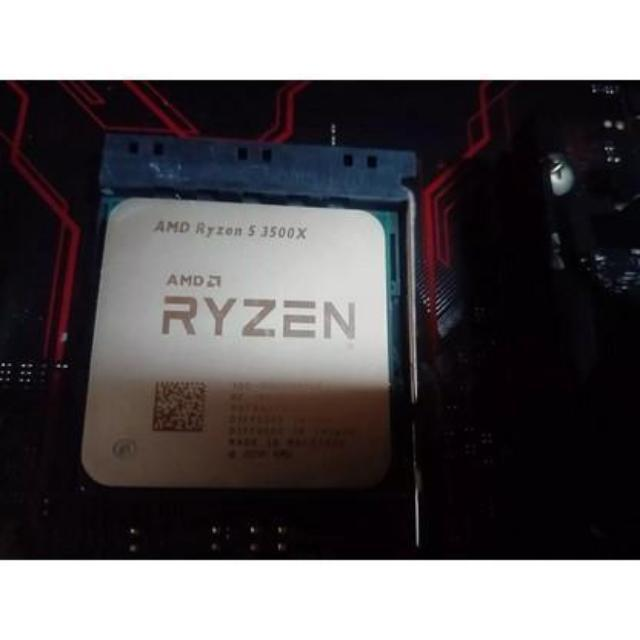CPU: (84, 190, 393, 492)
